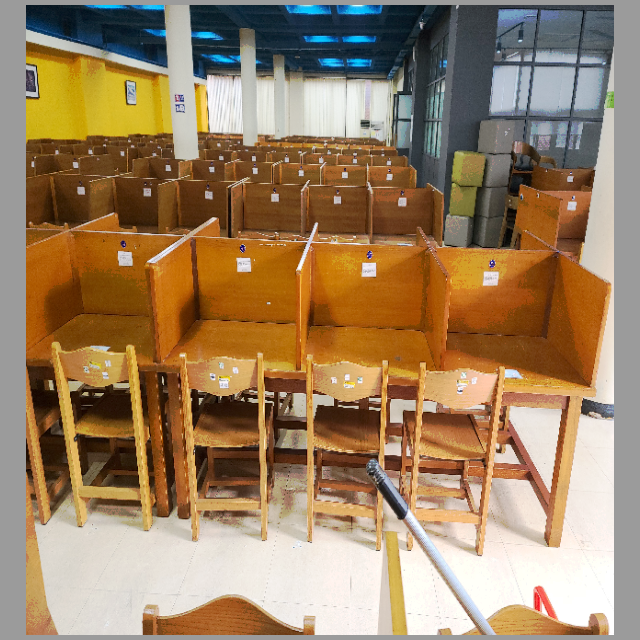empty: (453, 250, 606, 429), (307, 252, 444, 430), (167, 252, 296, 432)
